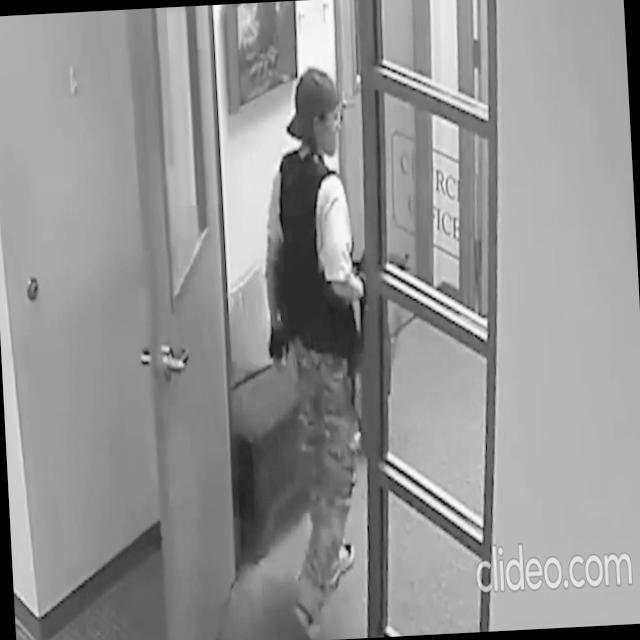gun: (349, 243, 414, 298)
person with a gun: (252, 56, 431, 640)
